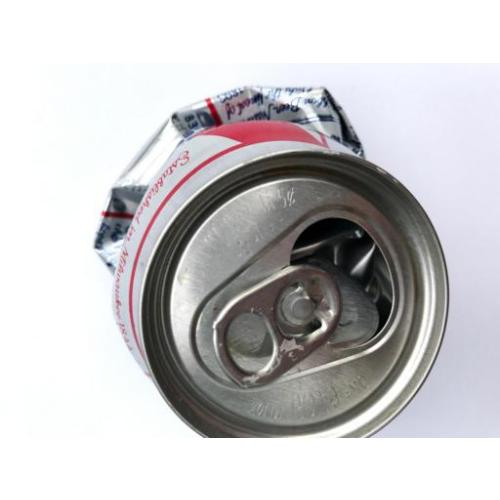metal: (95, 84, 448, 439)
